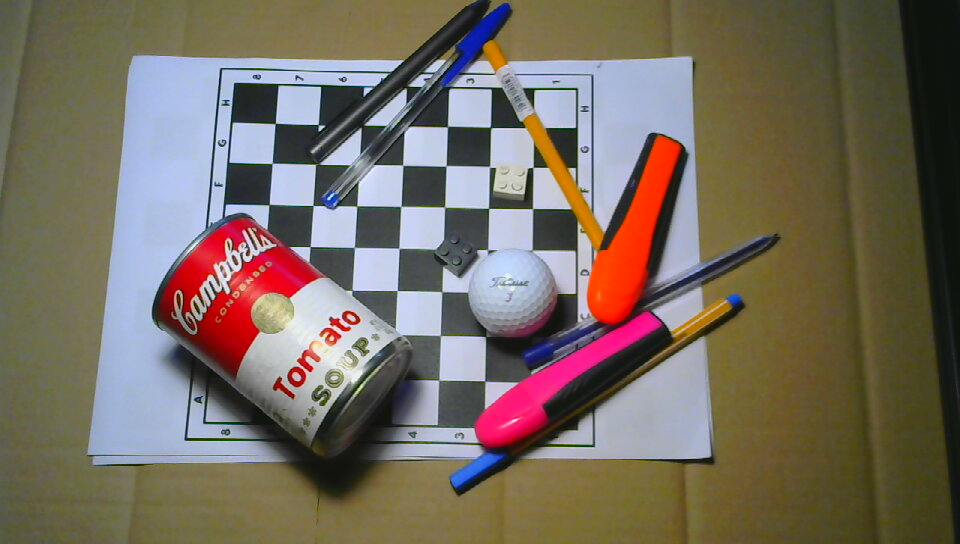bp: (433, 230, 476, 277)
wp: (492, 160, 531, 202)
